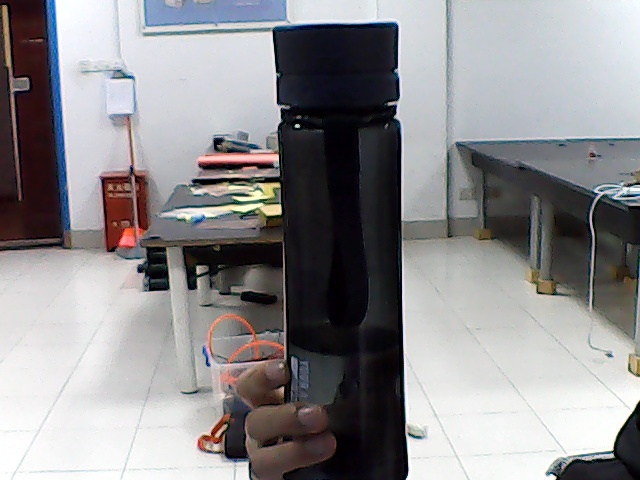cup: (284, 30, 403, 401)
